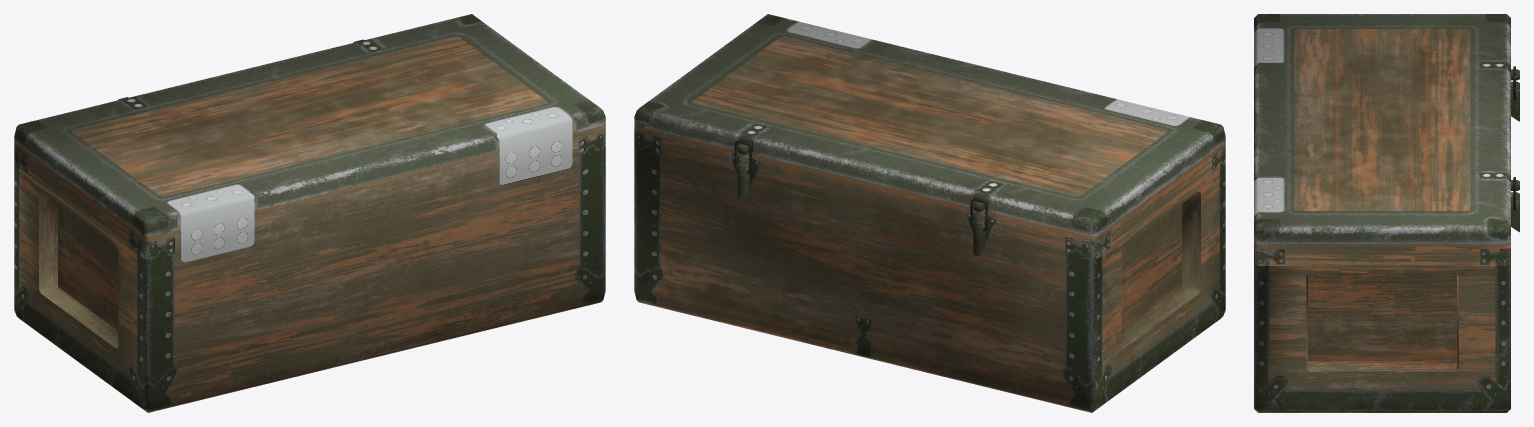
The model's file is mystery-box.glb.
The picture shows the model from 3 angles, left to right: view 1: azimuth 30°, elevation 25°; view 2: azimuth 150°, elevation 25°; view 3: azimuth 270°, elevation 25°; orthographic projection. The views are drawn at different scales.
Parts seen in each view (by area): view 1: CrateBody, CrateLid; view 2: CrateBody, CrateLid; view 3: CrateLid, CrateBody.
Part boxes in pixels (box(x1,y1,x2,y2)): CrateBody: box(14, 146, 605, 412); CrateLid: box(14, 14, 605, 259); CrateBody: box(634, 146, 1225, 412); CrateLid: box(634, 14, 1225, 259); CrateLid: box(1254, 14, 1519, 265); CrateBody: box(1254, 103, 1519, 412).
Size of the model in its own units: 2.5 by 1 by 1.29.
Materials: 1 (1 with a texture image).
